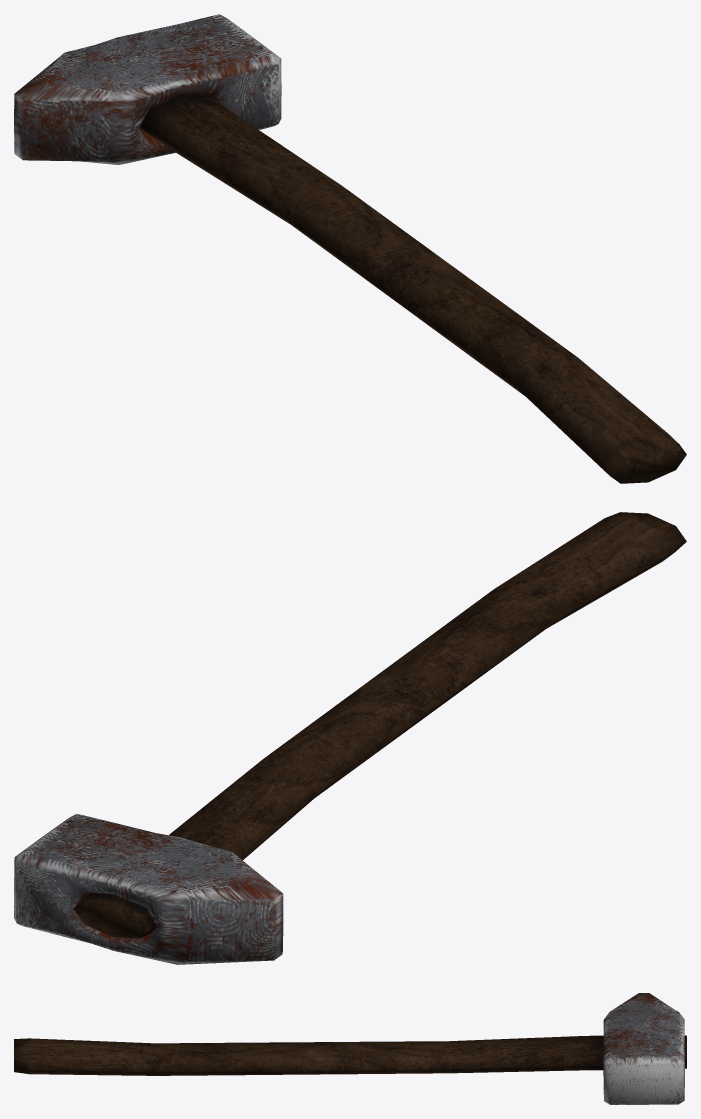
The model's file is hammer.glb.
3 renders of one model, top to bottom at view 1: azimuth 30°, elevation 25°; view 2: azimuth 150°, elevation 25°; view 3: azimuth 270°, elevation 25°, orthographic. The views are drawn at different scales.
Visible parts, largest first — view 1: handd_low, headd_low; view 2: handd_low, headd_low; view 3: handd_low, headd_low.
Part boxes in pixels (x1,y1,x2,y2): handd_low: (140,93,686,483); headd_low: (14,14,281,164); handd_low: (74,512,686,938); headd_low: (14,813,283,964); handd_low: (14,1035,686,1075); headd_low: (603,993,684,1104).
Bounding box in the file's own units: 0.2316 × 0.0691 × 0.9034.
1 material, 1 textured.
